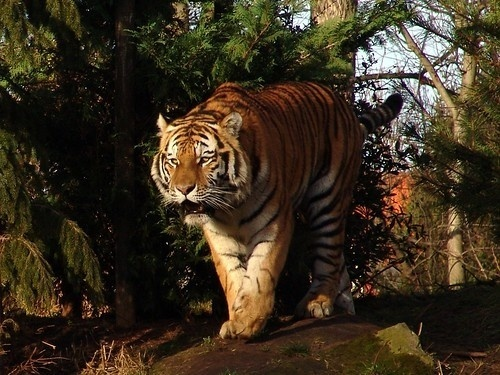tigre: (148, 78, 405, 342)
